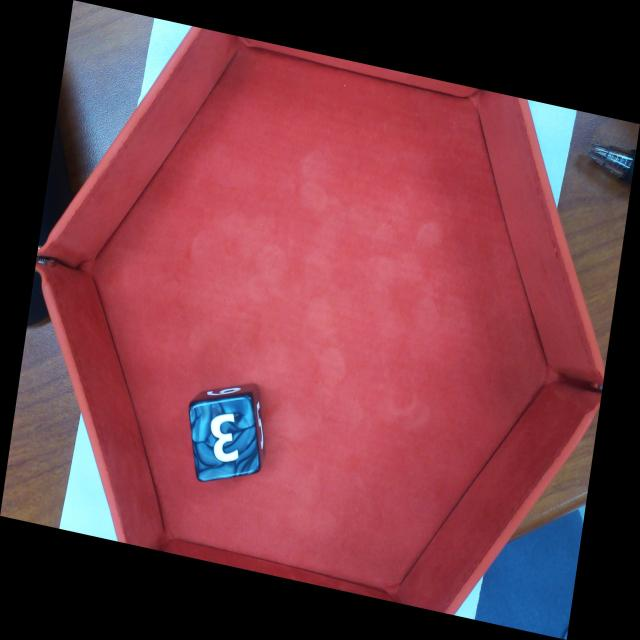dice: (189, 395, 258, 481)
